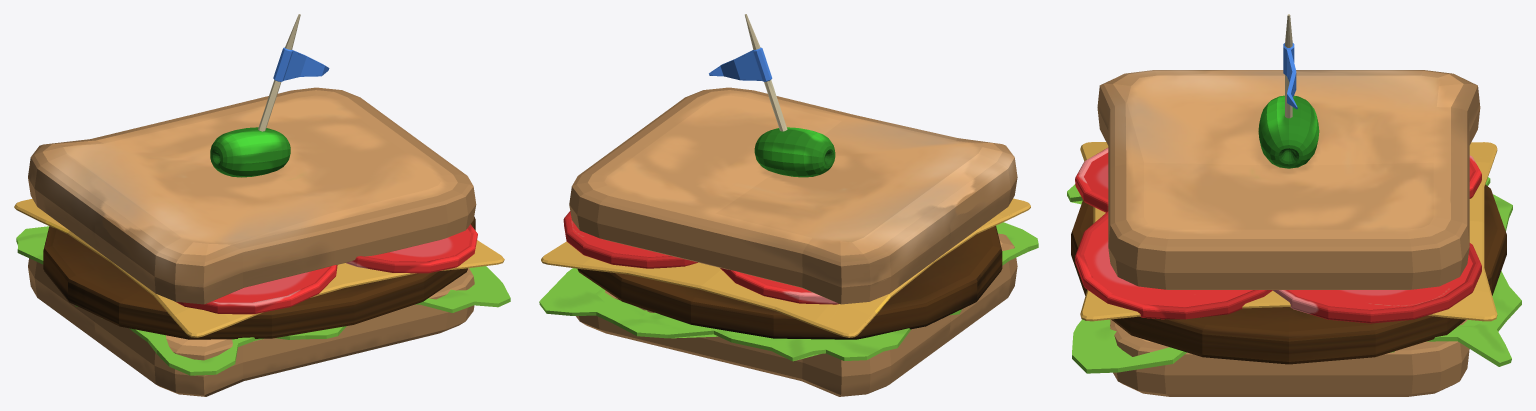
File: escenariomenudeinciioprops.fbx
The picture shows the model from 3 angles, left to right: view 1: azimuth 30°, elevation 25°; view 2: azimuth 150°, elevation 25°; view 3: azimuth 270°, elevation 25°; orthographic projection. The views are drawn at different scales.
Visible parts, largest first — view 1: pan; view 2: pan; view 3: pan.
Part boxes in pixels (x1,y1,x2,y2): pan: (14,14,510,396); pan: (539,14,1038,396); pan: (1067,14,1521,396).
Size of the model in its own units: 257 by 182 by 230.
